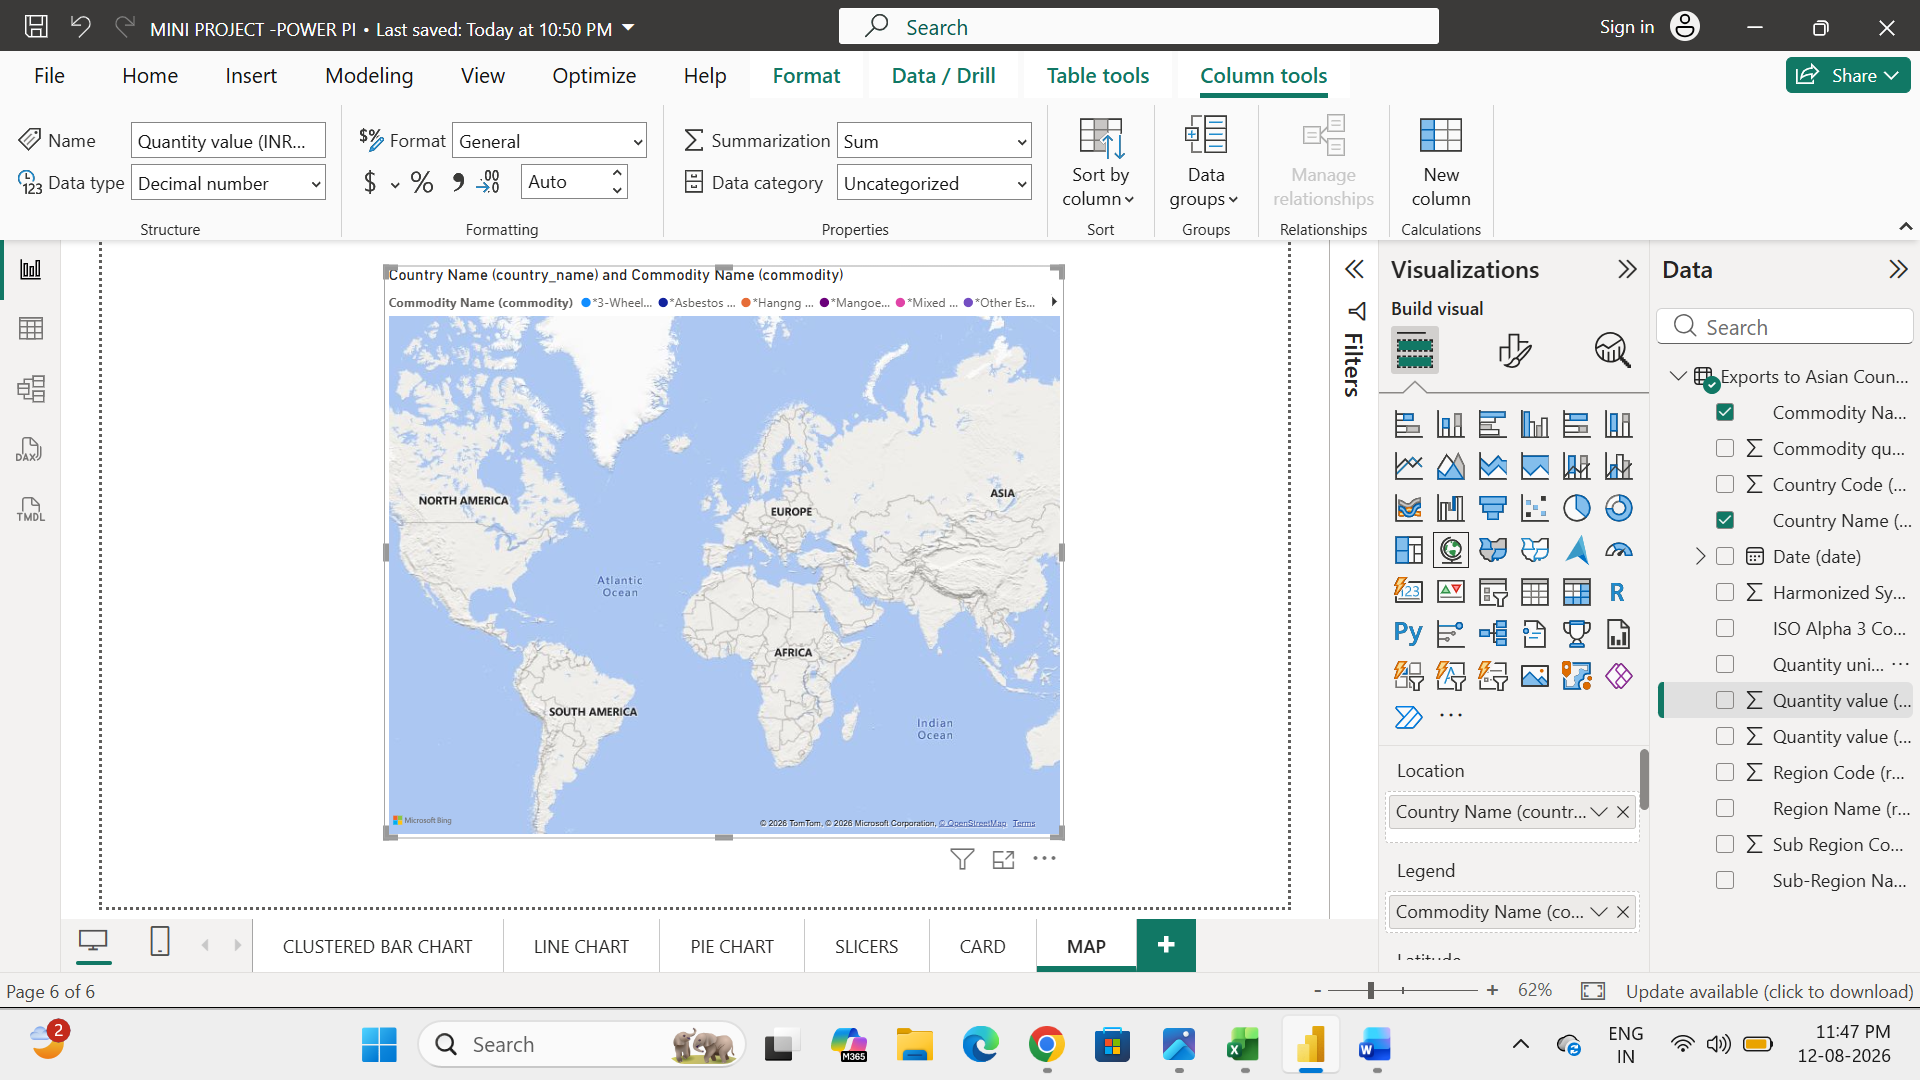

The dashboard page shown, as its layout file describes it:
{"tool":"powerbi","page":{"name":"MAP","canvas":[1280,720],"ordinal":5},"visuals":[{"type":"map","fields":{"Series":["Exports to Asian Countries_Samp.Commodity Name (commodity)"],"Category":["Exports to Asian Countries_Samp.Country Name (country_name)"]},"box":[304.4,27.5,733.5,618.5],"z":0}]}

Visuals, with their boxes on the page's 1280x720 design canvas (x1, y1, x2, y2). These are canvas units, not pixel positions in the 1920x1080 screenshot, which may show the page scaled, cropped or inside an application window:
map - Exports to Asian Countries_Samp.Commodity Name (commodity) x Exports to Asian Countries_Samp.Country Name (country_name): <box>304,28,1038,646</box>
